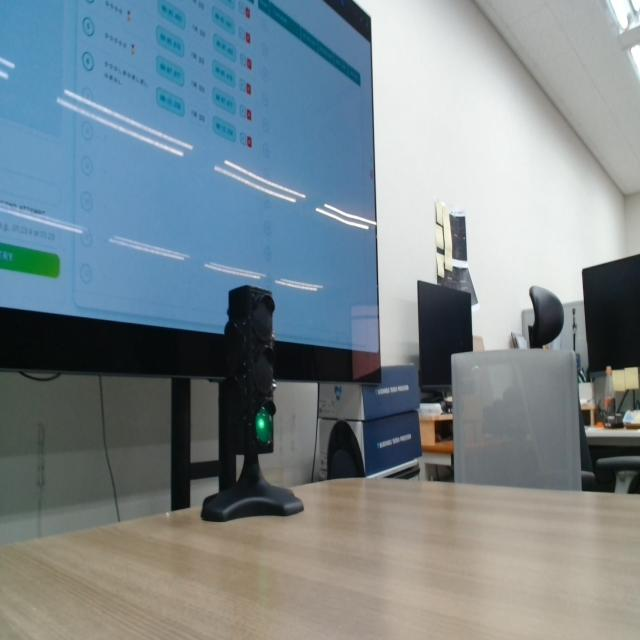green_light: (256, 408, 273, 445)
